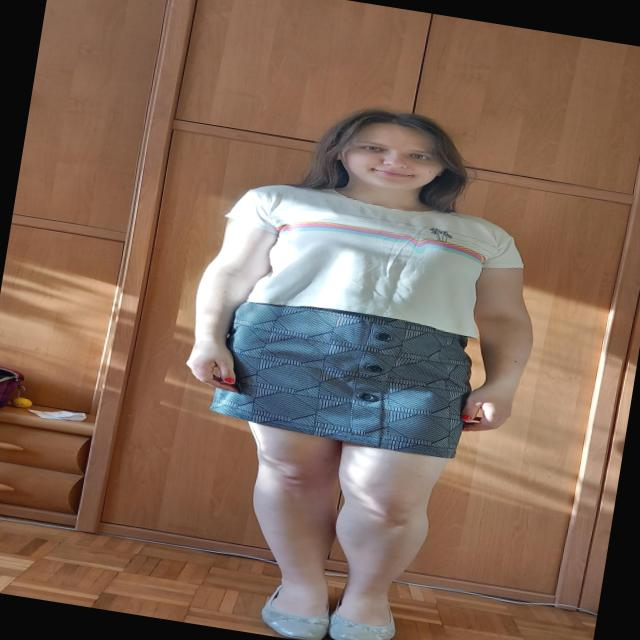Tshirt: (210, 172, 531, 344)
skirt: (207, 293, 479, 461)
